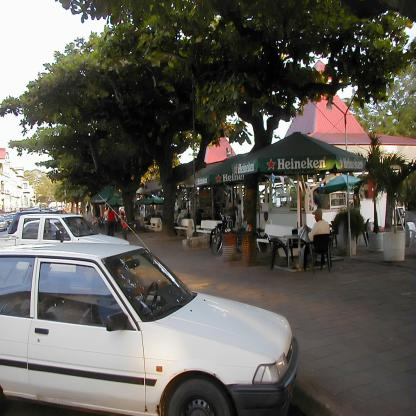Car: (0, 194, 299, 415)
